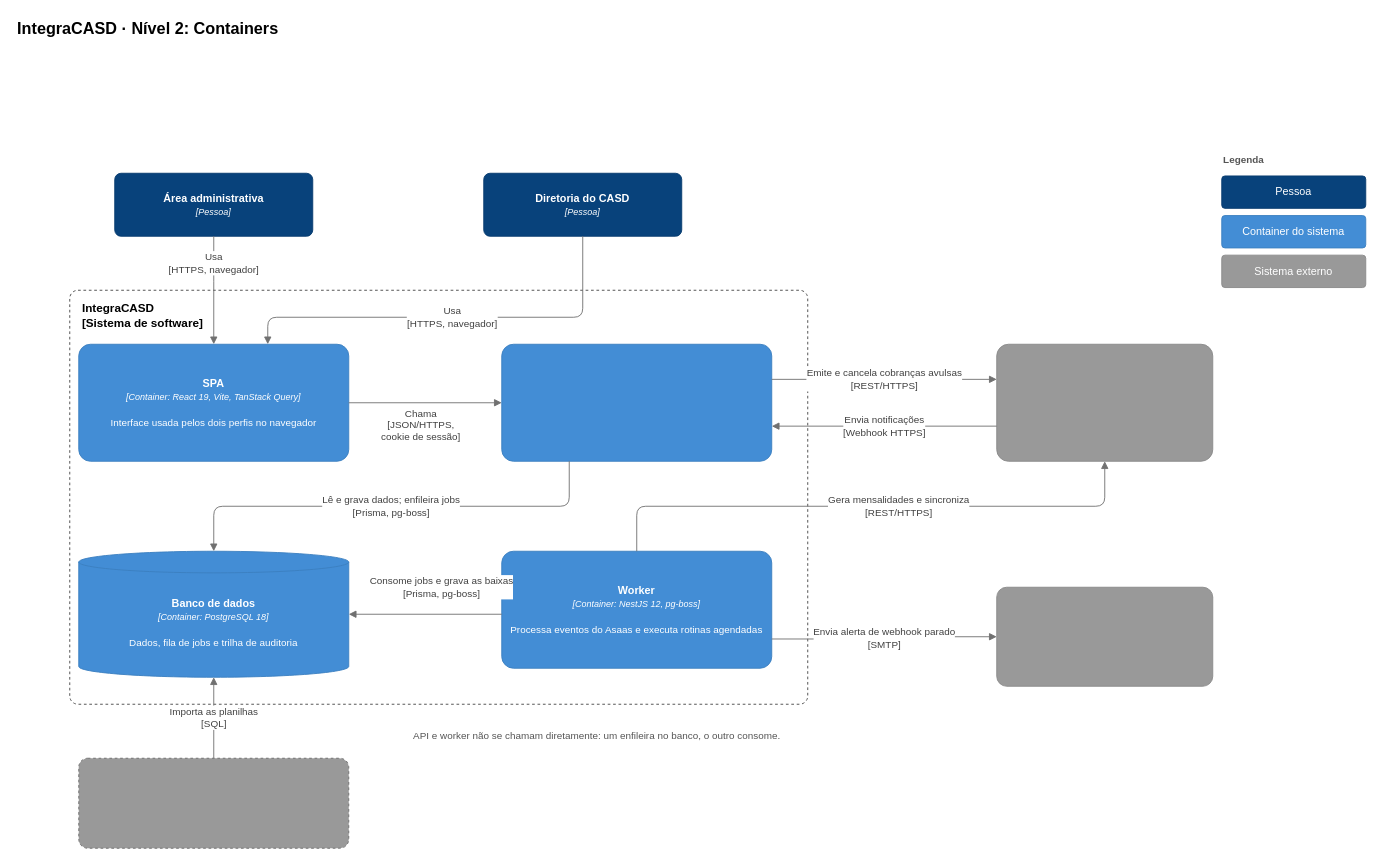
Image size: 1382x864. Some labels were removed from this diagram. The shapes that lost their labels are listed below. From the top down, each one's box as (x1, y1, x2, y2) in pixels, then its label:
(501, 343, 772, 461): API [Container: NestJS 12] Atende a SPA e recebe o webhook do Asaas
(996, 343, 1213, 461): Asaas [Sistema externo] Cobranças, boletos e pagamentos
(996, 586, 1213, 686): Serviço de e-mail [Sistema externo] Entrega os alertas
(78, 757, 349, 848): Script de carga inicial [Python] Executado uma vez, na implantação
